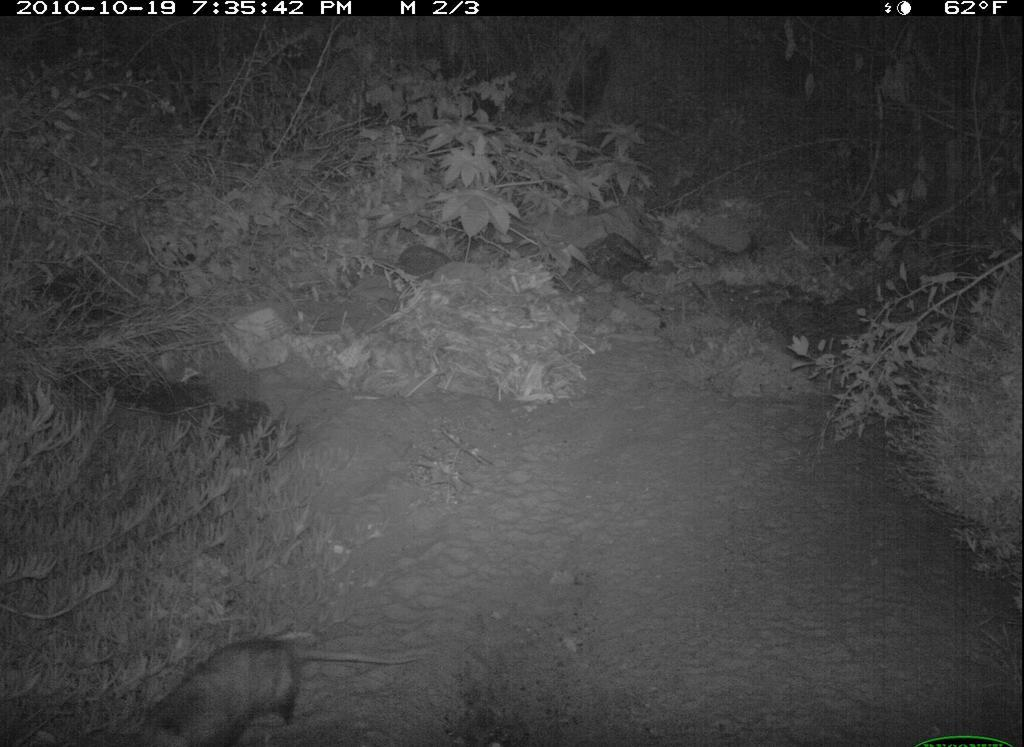opossum: (122, 635, 423, 747)
